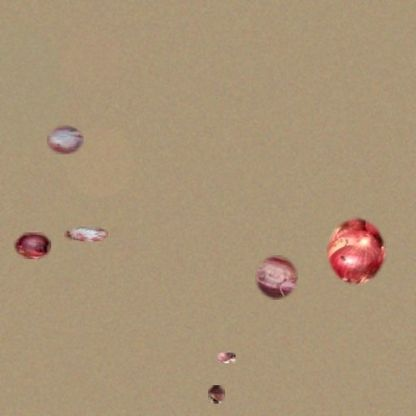damaged: (47, 125, 84, 154)
healthy: (327, 217, 386, 286), (14, 232, 51, 259)
rotten: (255, 255, 298, 300), (64, 227, 108, 241)
sprouted: (208, 385, 225, 404), (218, 353, 236, 363)
